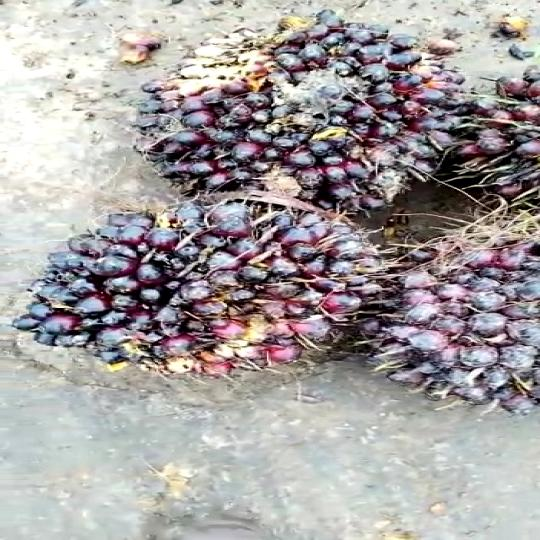kurang masak: (1, 173, 377, 404), (118, 0, 455, 213), (395, 193, 540, 438)
